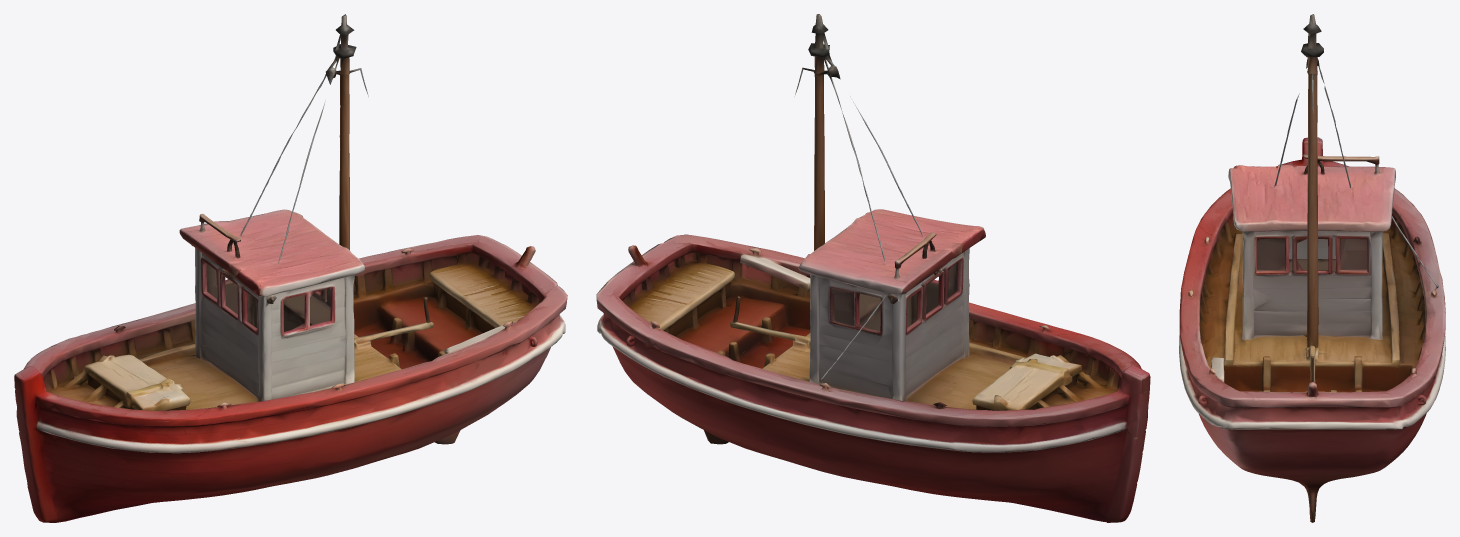
The model's file is boat_raw.glb.
The picture shows the model from 3 angles, left to right: view 1: azimuth 30°, elevation 25°; view 2: azimuth 150°, elevation 25°; view 3: azimuth 270°, elevation 25°; orthographic projection.
Parts seen in each view (by area): view 1: tripo_node_e8404737-7813-4971-a8e1-ae9cd2b43de3; view 2: tripo_node_e8404737-7813-4971-a8e1-ae9cd2b43de3; view 3: tripo_node_e8404737-7813-4971-a8e1-ae9cd2b43de3.
Part boxes in pixels (x1,y1,x2,y2): tripo_node_e8404737-7813-4971-a8e1-ae9cd2b43de3: (14, 14, 567, 522); tripo_node_e8404737-7813-4971-a8e1-ae9cd2b43de3: (596, 14, 1150, 522); tripo_node_e8404737-7813-4971-a8e1-ae9cd2b43de3: (1179, 14, 1445, 522).
Bounding box in the file's own units: 1 × 0.8394 × 0.4449.
1 material, 1 textured.
